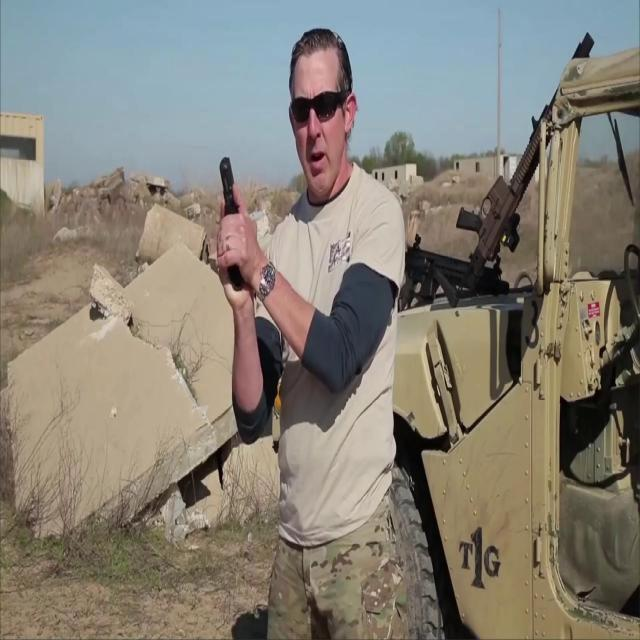weapon: (433, 30, 596, 308), (398, 235, 510, 312), (216, 158, 247, 292)
